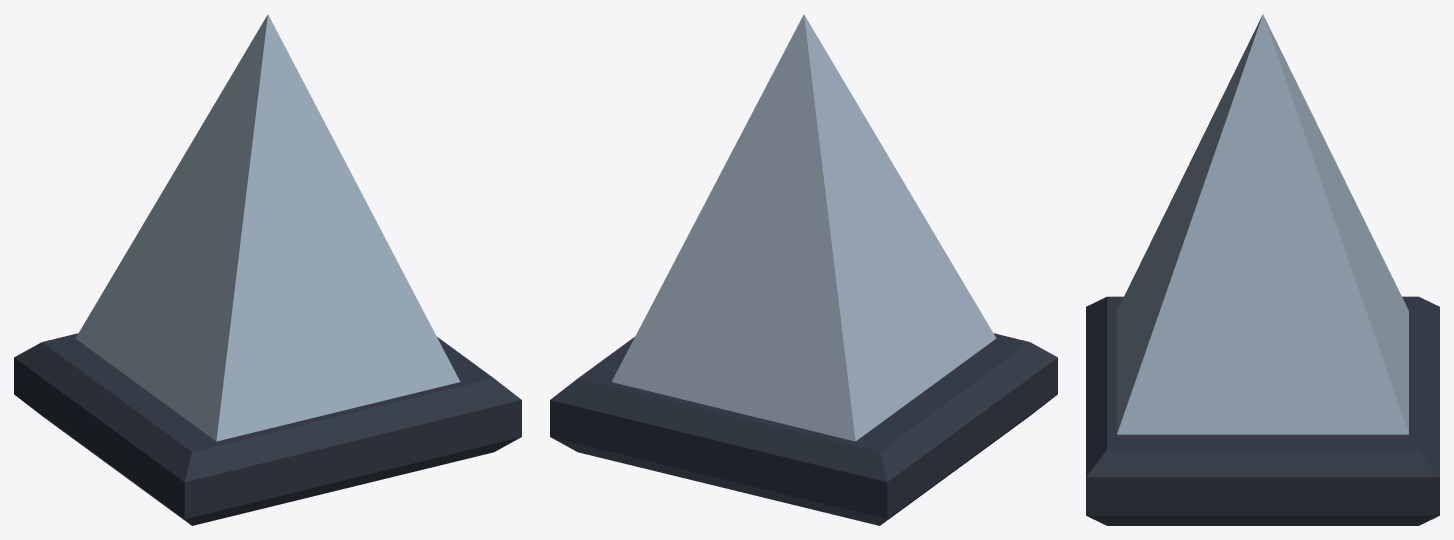
Rendered from SingleSpike.obj.
The picture shows the model from 3 angles, left to right: view 1: azimuth 30°, elevation 25°; view 2: azimuth 150°, elevation 25°; view 3: azimuth 270°, elevation 25°; orthographic projection. The views are drawn at different scales.
Parts seen in each view (by area): view 1: Spike_1, Base; view 2: Spike_1, Base; view 3: Spike_1, Base.
Boxes of the visible parts, box(x1,y1,x2,y2) form: Spike_1: box(75, 14, 460, 441); Base: box(14, 333, 521, 525); Spike_1: box(611, 14, 996, 441); Base: box(550, 333, 1057, 525); Spike_1: box(1117, 14, 1408, 434); Base: box(1086, 296, 1439, 525).
Bounding box in the file's own units: 1.05 × 1.25 × 0.92.
